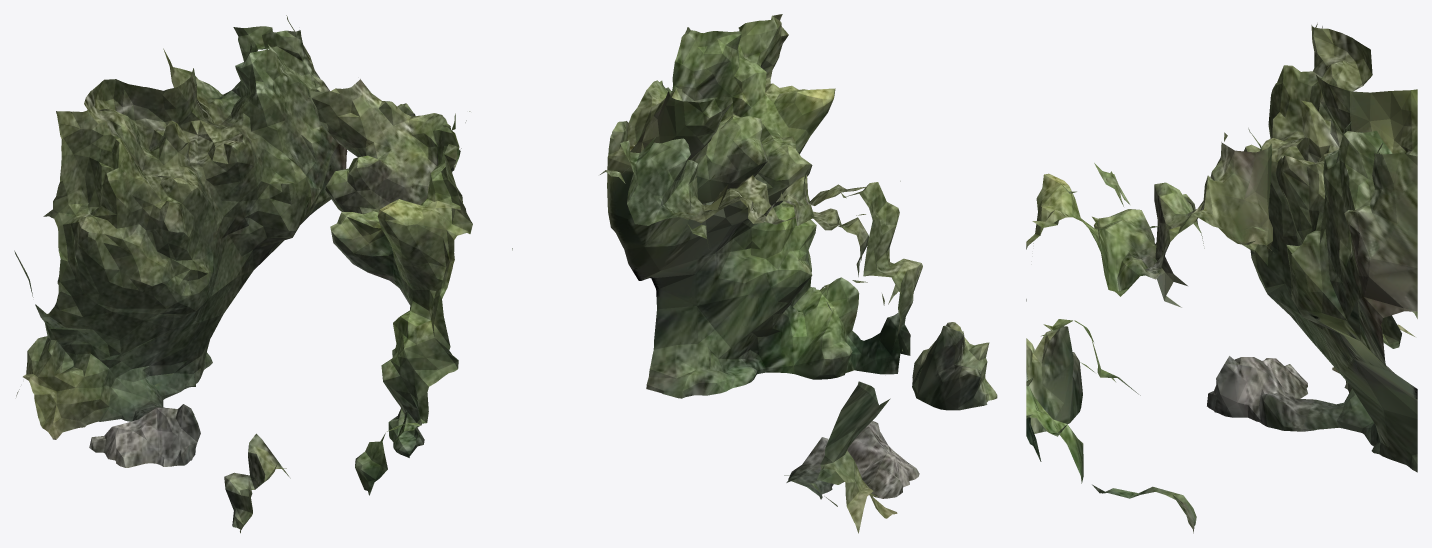
The picture shows the model from 3 angles, left to right: view 1: azimuth 30°, elevation 25°; view 2: azimuth 150°, elevation 25°; view 3: azimuth 270°, elevation 25°; orthographic projection. The views are drawn at different scales.
Bounding box in the file's own units: 11.8 × 11.8 × 11.8.
6 materials, 6 textured.
